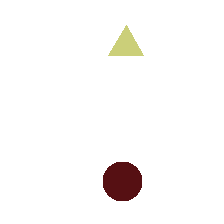circle: (103, 162, 141, 200)
triangle: (108, 25, 143, 55)
